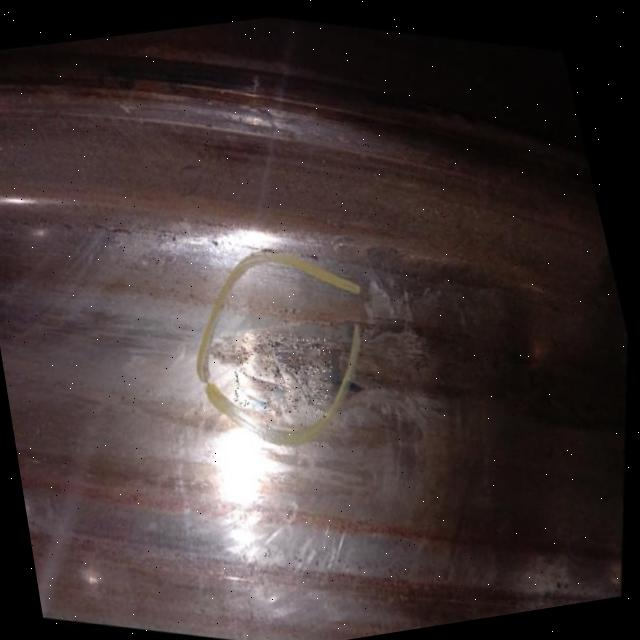Rollerpile: (221, 309, 353, 431)
